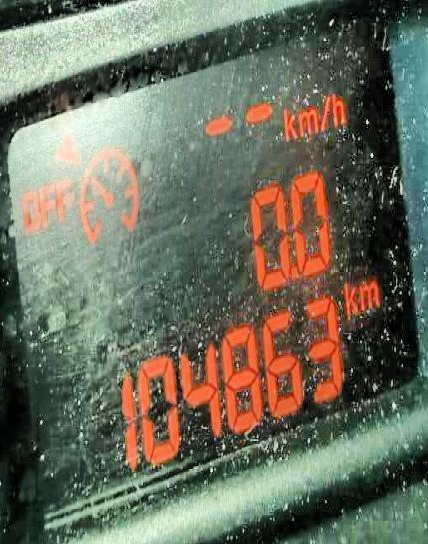-: (289, 263, 299, 281)
0: (137, 355, 178, 463), (249, 184, 289, 289), (290, 170, 329, 275)
1: (121, 374, 137, 469)
3: (304, 296, 342, 401)
4: (179, 341, 221, 436)
6: (262, 312, 302, 417)
8: (222, 325, 261, 430)
X: (19, 187, 39, 233), (54, 175, 70, 221), (39, 181, 53, 227), (359, 281, 378, 312), (298, 106, 318, 135), (343, 279, 357, 317), (330, 91, 344, 126), (282, 109, 295, 140), (319, 94, 330, 129)
